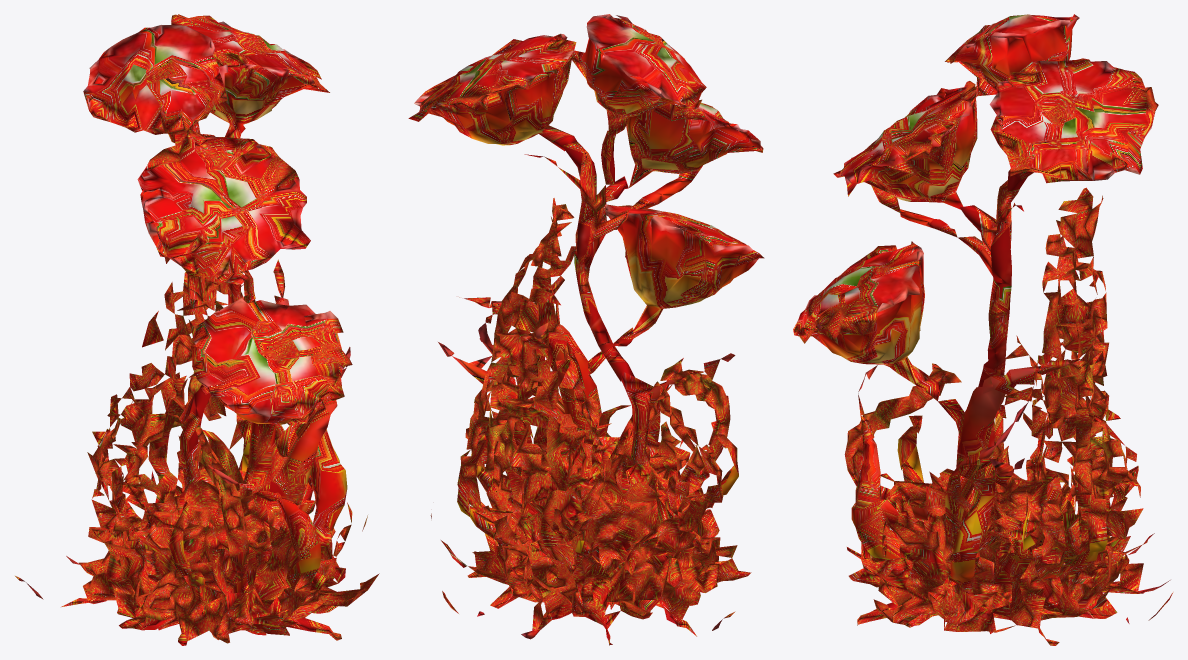
3 views of the same model, side by side, from view 1: azimuth 30°, elevation 25°; view 2: azimuth 150°, elevation 25°; view 3: azimuth 270°, elevation 25° (orthographic). The views are drawn at different scales.
Size of the model in its own units: 1.1 by 1.9 by 1.15.
Materials: 1 (1 with a texture image).
